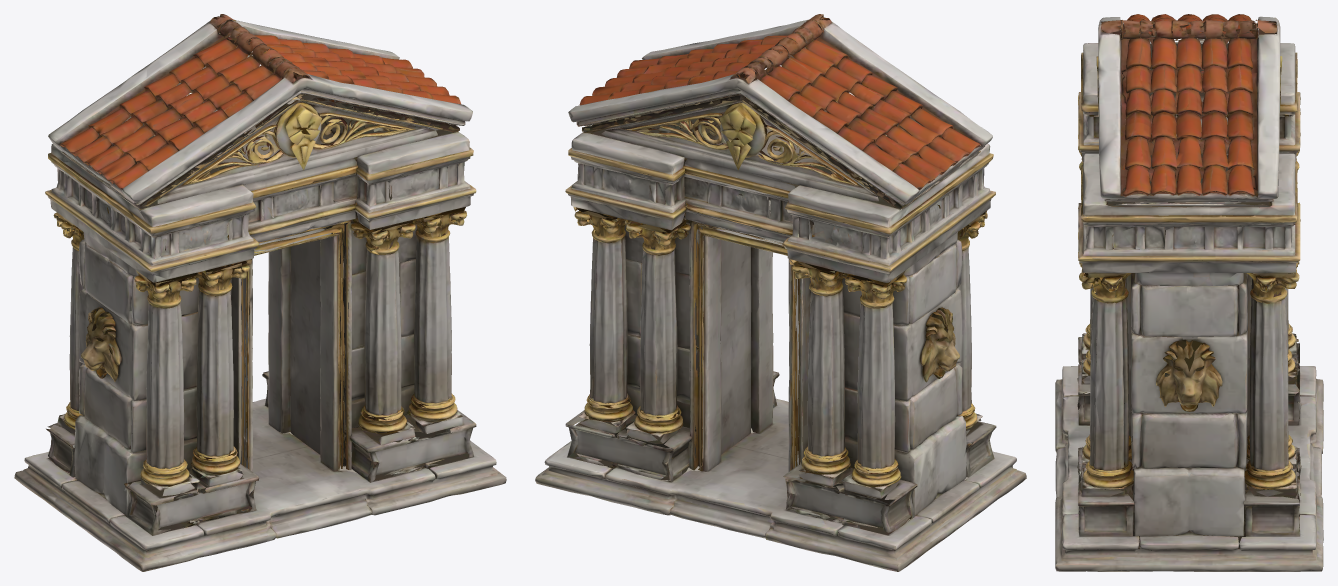
File: civic_city-gate.glb
The picture shows the model from 3 angles, left to right: view 1: azimuth 30°, elevation 25°; view 2: azimuth 150°, elevation 25°; view 3: azimuth 270°, elevation 25°; orthographic projection. The views are drawn at different scales.
Parts seen in each view (by area): view 1: geometry_0; view 2: geometry_0; view 3: geometry_0.
Part boxes in pixels (left/top/right/bottom): geometry_0: left=14, top=14, right=506, bottom=571; geometry_0: left=535, top=14, right=1026, bottom=571; geometry_0: left=1055, top=14, right=1323, bottom=571.
Bounding box in the file's own units: 10.45 × 12 × 6.37.
1 material, 1 textured.
